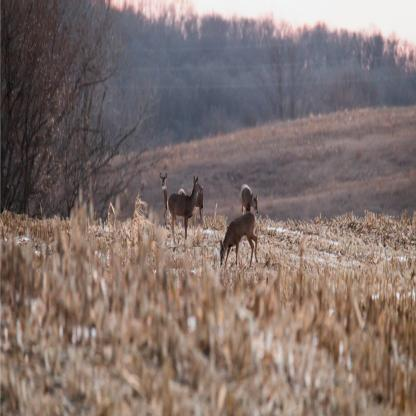Deer: (167, 176, 203, 248), (219, 211, 259, 268), (158, 171, 178, 232), (240, 183, 259, 230)
